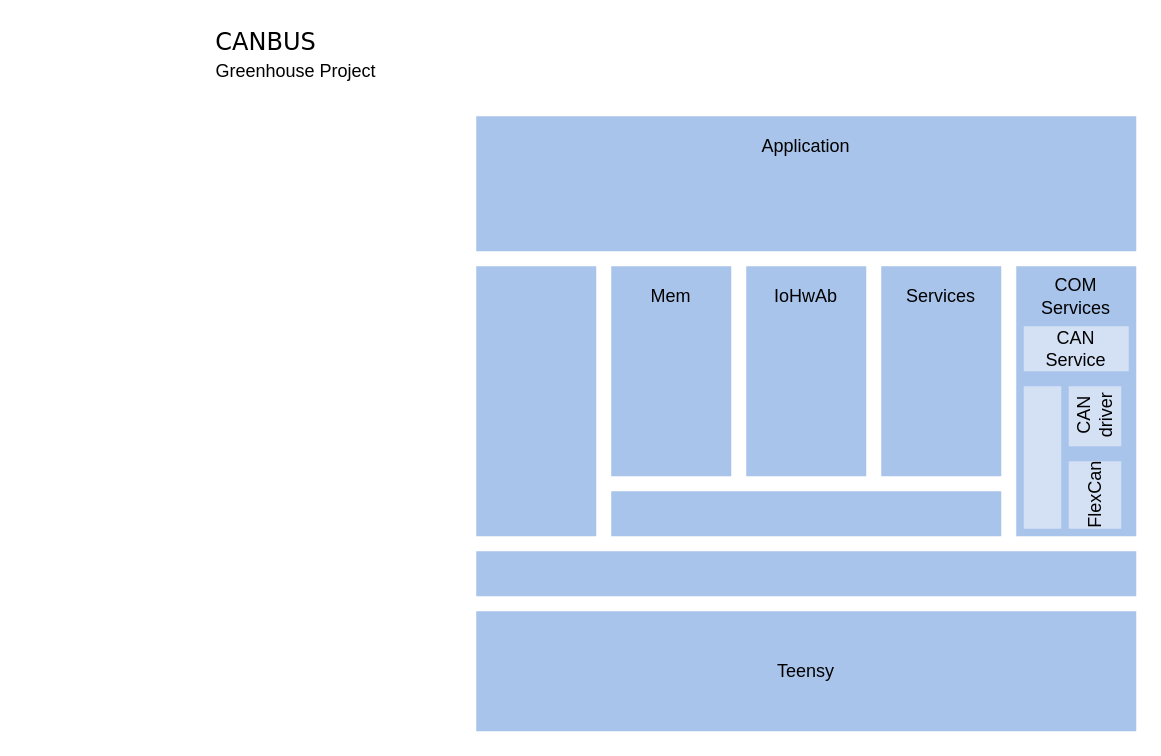
Image size: 1161x756. Some labels were removed from this diagram. The shapes that lost their labels are listed below. From the top down, each one's centre as x and y in pixels, then its label:
the point at 536,401: RTOS
the point at 1041,457: Utility
the point at 805,513: HAL
the point at 806,573: Arduino
